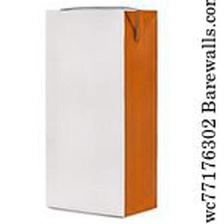carton: (40, 3, 168, 219)
